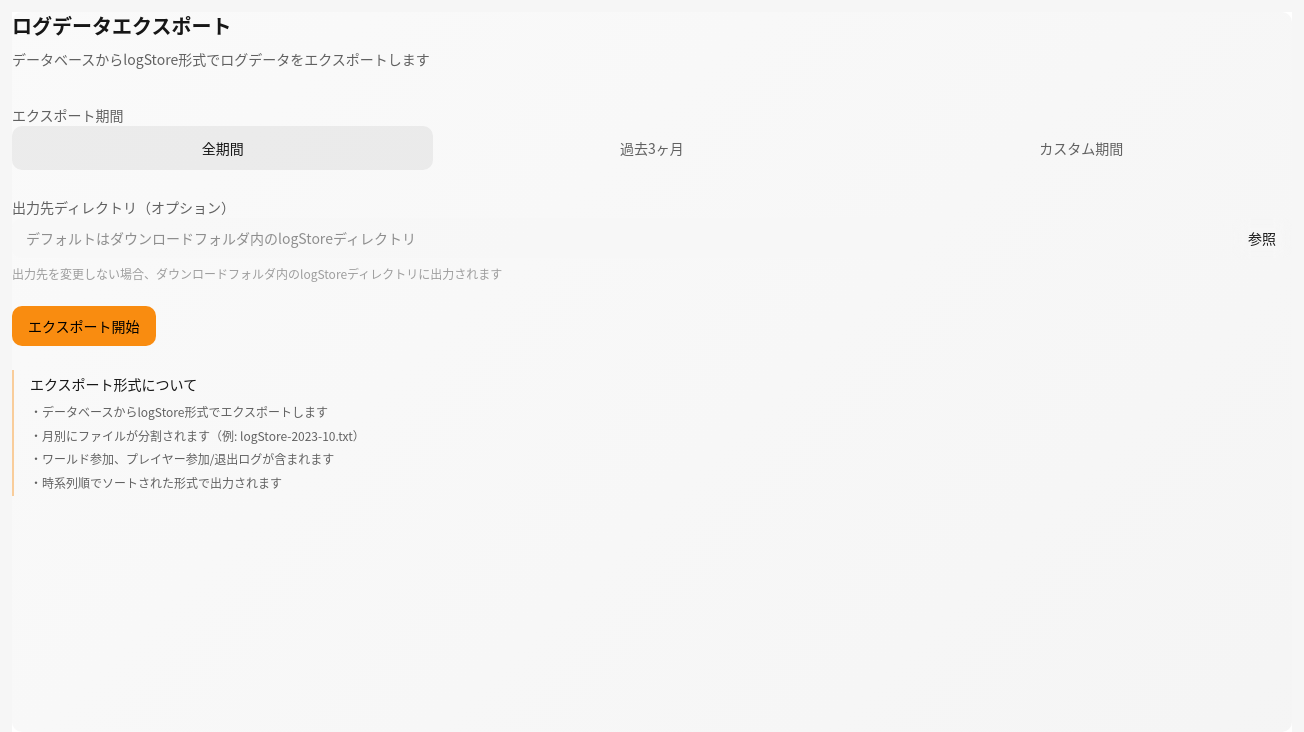
Test: DataExport › 全期間ボタンを選択すると日付入力が非表示になる
# まずカスタム期間を選択
Step 1. Click the button "カスタム期間" → (1081, 148), box x1=871 y1=126 x2=1292 y2=170
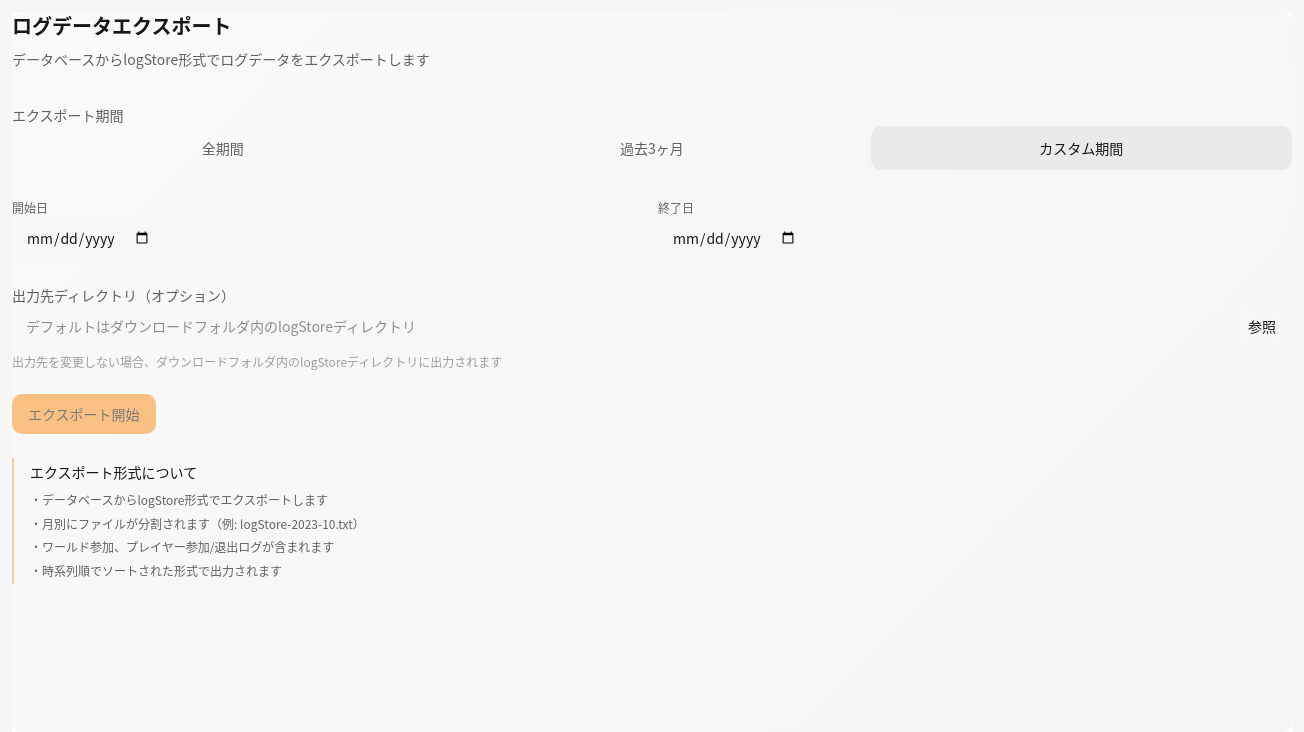
Now the date field labelled "開始日" is shown, box x1=12 y1=218 x2=646 y2=258
# 全期間ボタンをクリック
Step 2. Click the button "全期間" → (223, 148), box x1=12 y1=126 x2=433 y2=170
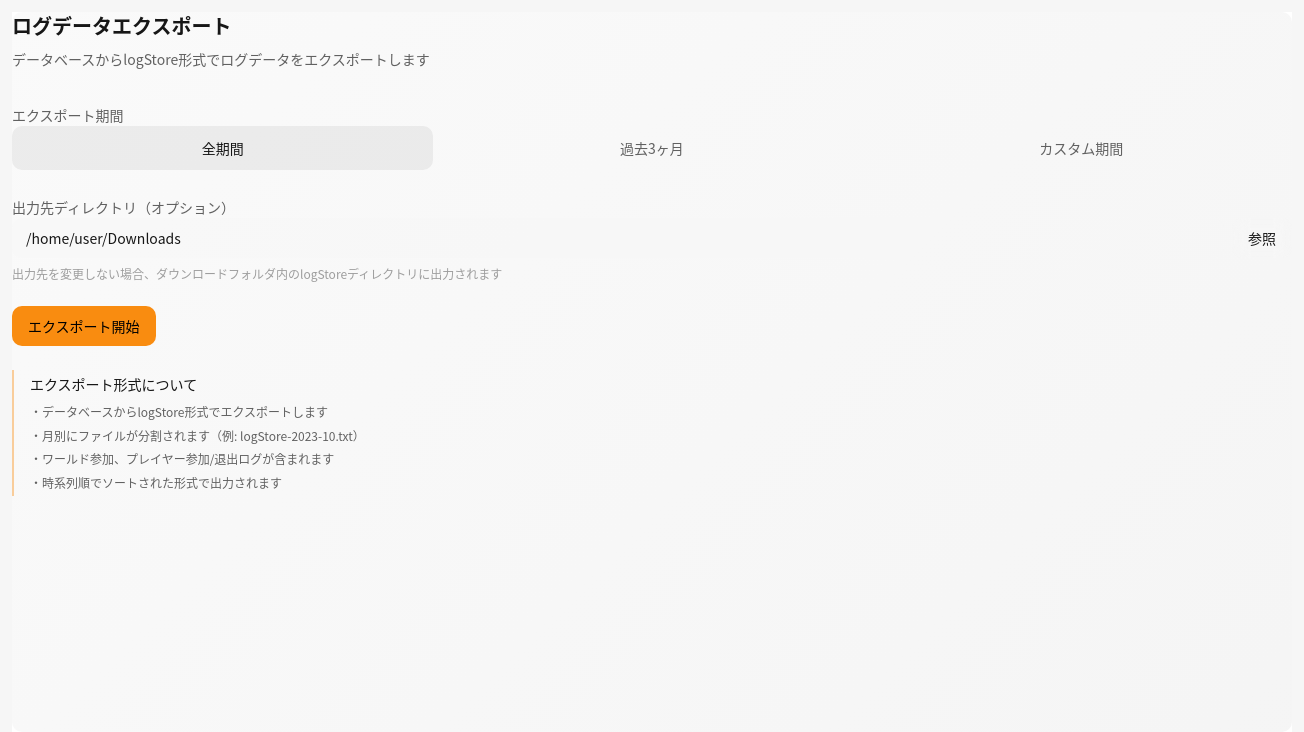
Now the label labelled "開始日" is gone
